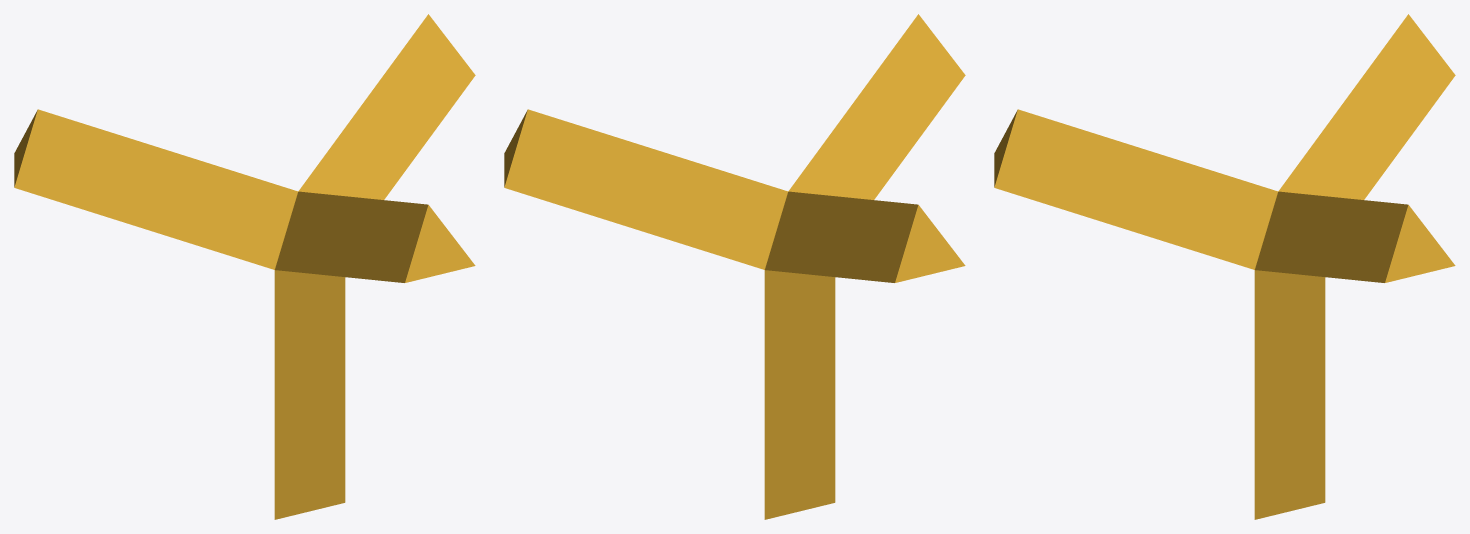
The model's file is origin.glb.
The picture shows the model from 3 angles, left to right: view 1: azimuth 30°, elevation 25°; view 2: azimuth 150°, elevation 25°; view 3: azimuth 270°, elevation 25°; orthographic projection.
Visible parts, largest first — view 1: Cube; view 2: Cube; view 3: Cube.
Boxes of the visible parts, x1,y1,x2,y2 form: Cube: [14, 14, 475, 519]; Cube: [504, 14, 965, 519]; Cube: [994, 14, 1455, 519].
Size of the model in its own units: 2.71 by 2.21 by 2.35.
